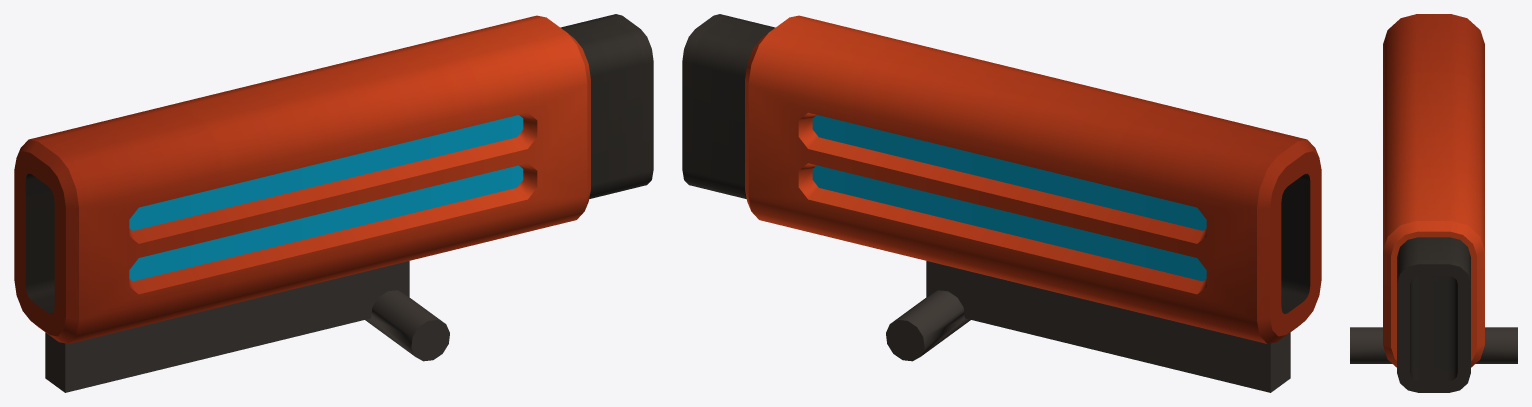
The model's file is Flare_Gun_Barrel.fbx.
The picture shows the model from 3 angles, left to right: view 1: azimuth 30°, elevation 25°; view 2: azimuth 150°, elevation 25°; view 3: azimuth 270°, elevation 25°; orthographic projection. The views are drawn at different scales.
Visible parts, largest first — view 1: Flare_Gun_Barrel; view 2: Flare_Gun_Barrel; view 3: Flare_Gun_Barrel.
Part boxes in pixels (x1,y1,x2,y2): Flare_Gun_Barrel: (14,14,653,392); Flare_Gun_Barrel: (682,14,1321,392); Flare_Gun_Barrel: (1350,14,1517,392).
Bounding box in the file's own units: 13.45 × 5.56 × 3.96.
